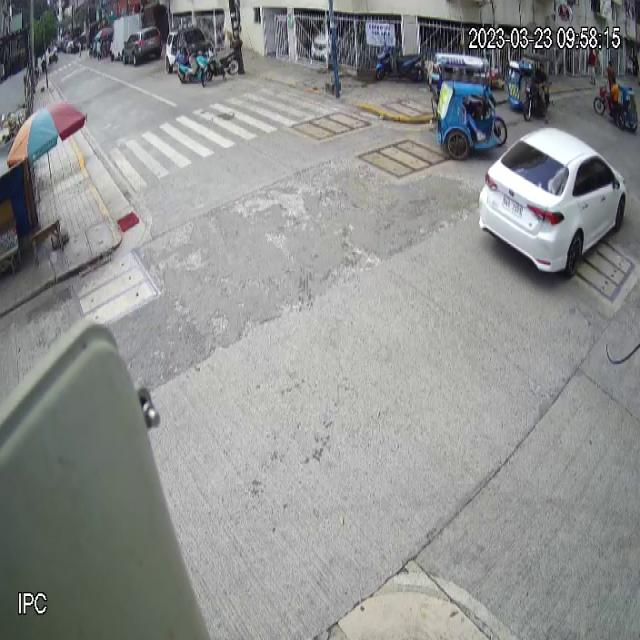Car: (478, 128, 627, 277)
Tricycle: (428, 53, 508, 160), (507, 52, 554, 122)
